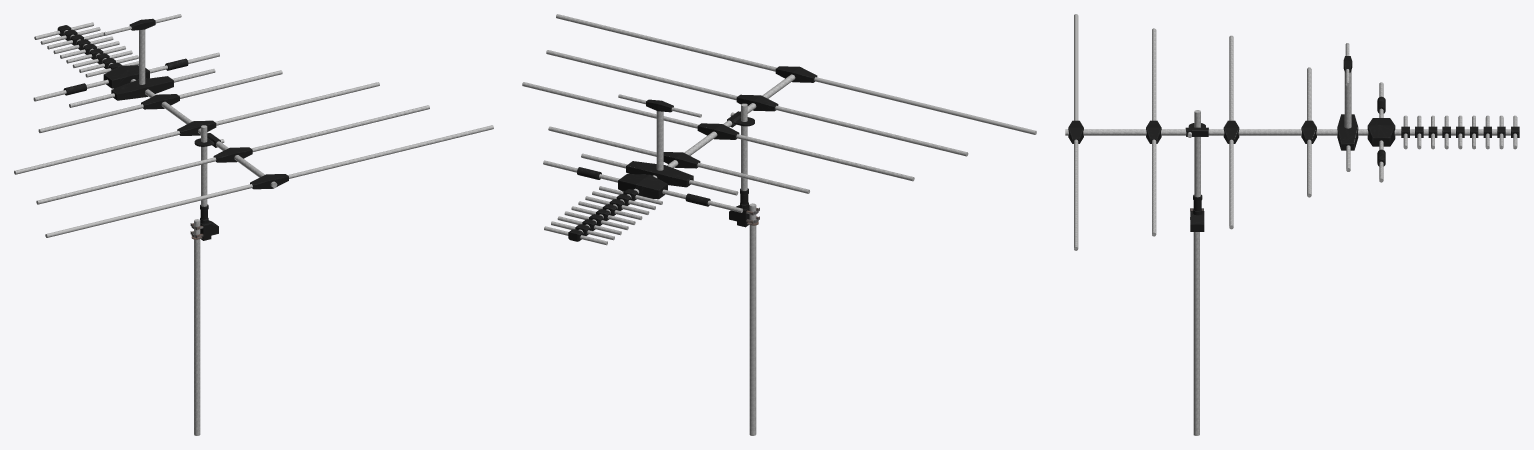
File: das_antenna.glb
3 views of the same model, side by side, from view 1: azimuth 30°, elevation 25°; view 2: azimuth 150°, elevation 25°; view 3: azimuth 270°, elevation 25° (orthographic). The views are drawn at different scales.
Parts seen in each view (by area): view 1: antena_fina.025, antena_fina.001, antena_fina.040, antena_fina.036, antena_fina.002, antena_fina.042, antena_fina.003, antena_fina.058, antena_fina.034, antena_fina.004, antena_fina.059, antena_fina.030; view 2: antena_fina.025, antena_fina.001, antena_fina.040, antena_fina.002, antena_fina.042, antena_fina.003, antena_fina.036, antena_fina.034, antena_fina.058, antena_fina.004, antena_fina.059, antena_fina.030 (+2 smaller); view 3: antena_fina.025, antena_fina.032, antena_fina.034, antena_fina.062, antena_fina.036, antena_fina.040, antena_fina.030, antena_fina.001, antena_fina.042, antena_fina.002, antena_fina.058.
Part boxes in pixels (bbox=[...]): antena_fina.025: bbox=[194, 219, 200, 435]; antena_fina.001: bbox=[45, 184, 252, 237]; antena_fina.040: bbox=[288, 125, 493, 178]; antena_fina.036: bbox=[111, 76, 173, 100]; antena_fina.002: bbox=[36, 157, 216, 204]; antena_fina.042: bbox=[251, 105, 429, 151]; antena_fina.003: bbox=[14, 130, 180, 174]; antena_fina.058: bbox=[215, 82, 379, 125]; antena_fina.034: bbox=[103, 65, 149, 88]; antena_fina.004: bbox=[38, 104, 143, 132]; antena_fina.059: bbox=[179, 70, 282, 98]; antena_fina.030: bbox=[201, 125, 207, 206]; antena_fina.025: bbox=[749, 203, 756, 435]; antena_fina.001: bbox=[814, 77, 1036, 134]; antena_fina.040: bbox=[556, 14, 776, 71]; antena_fina.002: bbox=[775, 105, 968, 156]; antena_fina.042: bbox=[546, 50, 737, 100]; antena_fina.003: bbox=[736, 134, 914, 181]; antena_fina.036: bbox=[626, 161, 693, 187]; antena_fina.034: bbox=[618, 174, 667, 199]; antena_fina.058: bbox=[522, 82, 698, 128]; antena_fina.004: bbox=[697, 162, 809, 193]; antena_fina.059: bbox=[548, 126, 656, 156]; antena_fina.030: bbox=[741, 103, 747, 190]; antena_fina.025: bbox=[1193, 232, 1199, 435]; antena_fina.032: bbox=[1065, 129, 1224, 135]; antena_fina.034: bbox=[1367, 118, 1395, 146]; antena_fina.062: bbox=[1238, 129, 1368, 135]; antena_fina.036: bbox=[1337, 114, 1358, 150]; antena_fina.040: bbox=[1074, 139, 1078, 250]; antena_fina.030: bbox=[1194, 110, 1200, 197]; antena_fina.001: bbox=[1074, 14, 1078, 120]; antena_fina.042: bbox=[1152, 139, 1156, 236]; antena_fina.002: bbox=[1152, 28, 1156, 120]; antena_fina.058: bbox=[1229, 139, 1233, 229].
Size of the model in its own units: 0.9152 by 0.7006 by 0.7541.
Materials: 1 (1 with a texture image).
